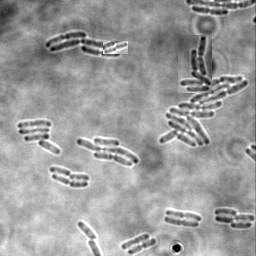Dividing: (52, 175, 89, 189), (128, 238, 157, 255), (166, 209, 202, 222), (164, 217, 200, 228), (192, 7, 229, 17), (103, 41, 128, 54)
Microcolony: (158, 76, 249, 147), (178, 35, 212, 93), (76, 137, 139, 168), (45, 32, 121, 57), (18, 120, 61, 155), (214, 208, 255, 229)
Rod: (121, 233, 150, 251), (78, 222, 99, 240), (50, 167, 72, 177), (69, 174, 90, 183)
